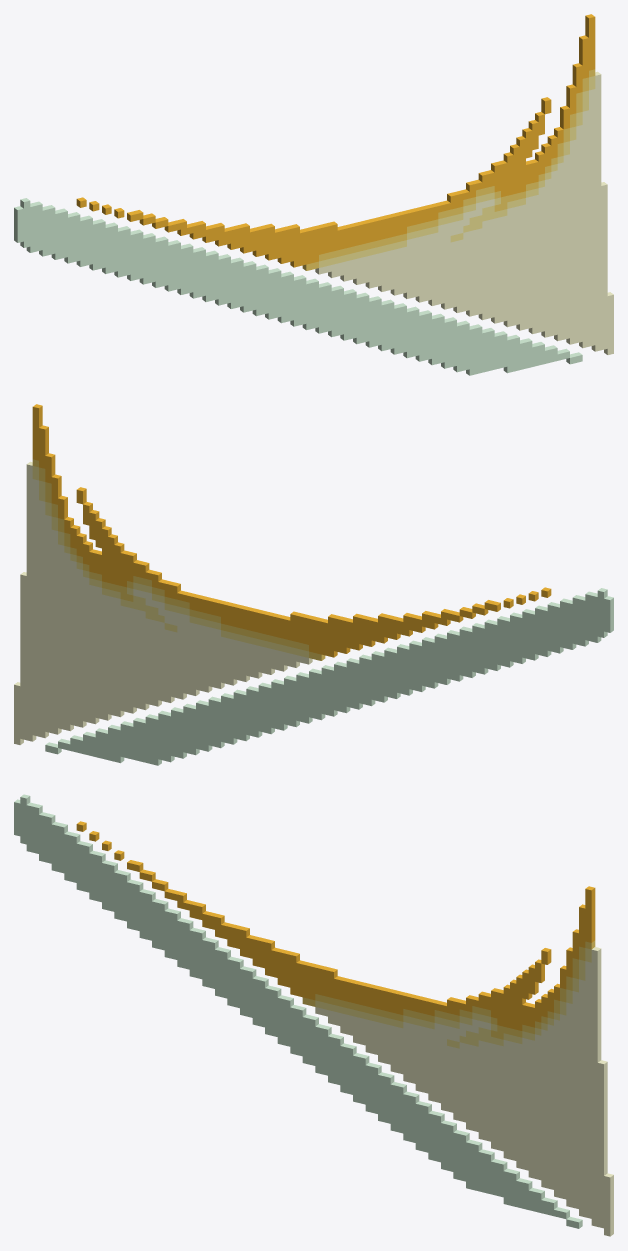
Rendered from Fight_722_2_07_fx.obj.
3 renders of one model, top to bottom at view 1: azimuth 30°, elevation 25°; view 2: azimuth 150°, elevation 25°; view 3: azimuth 330°, elevation 25°, orthographic.
Size of the model in its own units: 9.5 by 5.2 by 0.1.
Materials: 1 (1 with a texture image).
